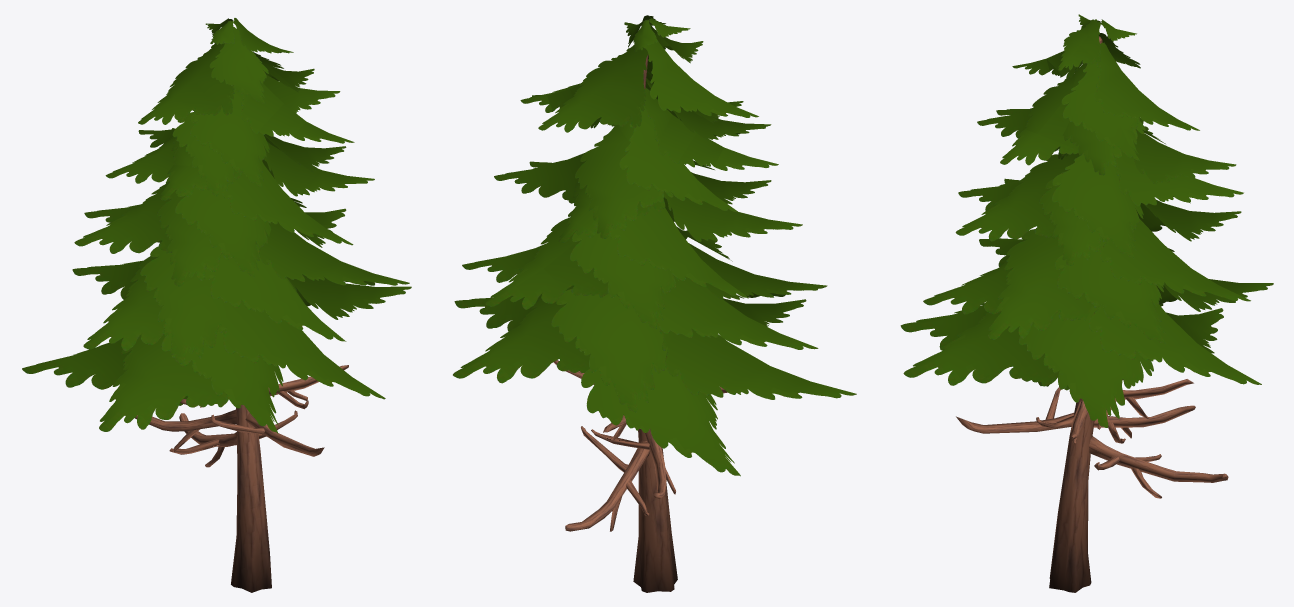
File: pine_1.glb
3 renders of one model, left to right at view 1: azimuth 30°, elevation 25°; view 2: azimuth 150°, elevation 25°; view 3: azimuth 270°, elevation 25°, orthographic. The views are drawn at different scales.
Visible parts, largest first — view 1: Pine_1; view 2: Pine_1; view 3: Pine_1.
Part boxes in pixels (x1,y1,x2,y2): Pine_1: (22,18,411,592); Pine_1: (453,15,856,592); Pine_1: (900,14,1273,592).
Bounding box in the file's own units: 4.94 × 7.32 × 4.54.
Materials: 2 (2 with a texture image).
